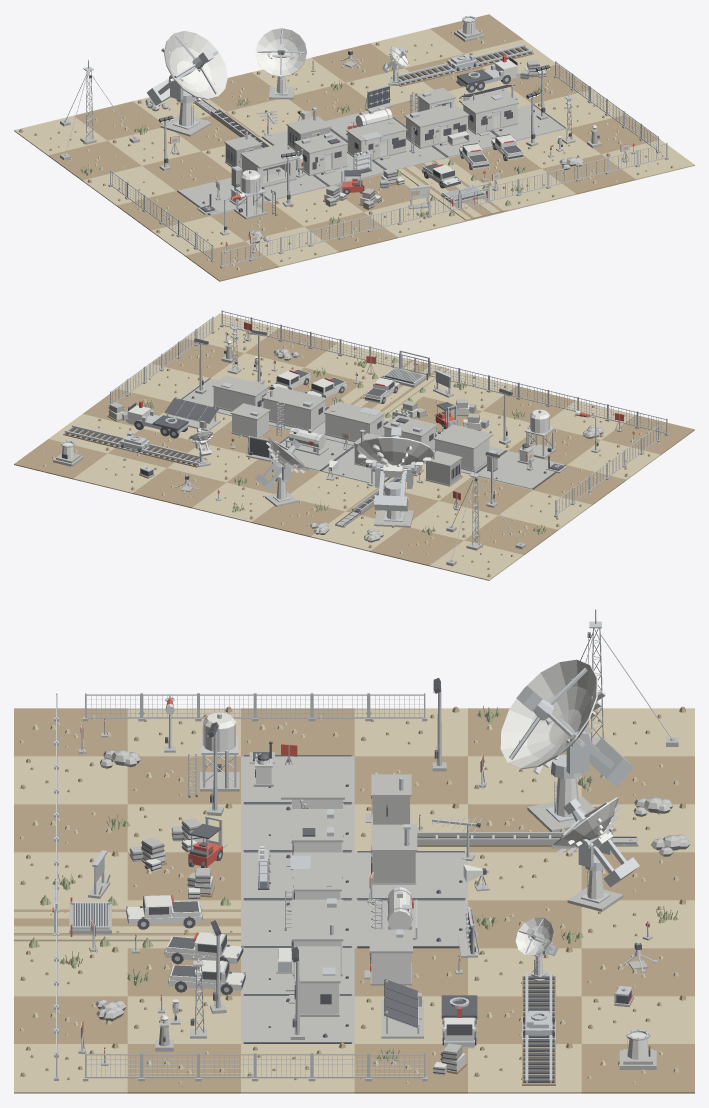
The picture shows the model from 3 angles, top to bottom: view 1: azimuth 30°, elevation 25°; view 2: azimuth 150°, elevation 25°; view 3: azimuth 270°, elevation 25°; orthographic projection. The views are drawn at different scales.
Visible parts, largest first — view 1: 048-dish-antenna-large/elevation, 005-ground-module-dark/0, 002-ground-module-pale/0, 001-ground-module-dark/0, 006-ground-module-dark/0, 017-ground-module-dark/0, 008-ground-module-dark/0, 003-ground-module-dark/0, 004-ground-module-pale/0, 035-ground-module-pale/0, 047-ground-module-pale/0, 000-ground-module-pale/0 (+54 smaller); view 2: 048-dish-antenna-large/elevation, 006-ground-module-dark/0, 002-ground-module-pale/0, 030-ground-module-dark/0, 000-ground-module-pale/0, 001-ground-module-dark/0, 003-ground-module-dark/0, 036-ground-module-pale/0, 019-ground-module-pale/0, 004-ground-module-pale/0, 005-ground-module-dark/0, 024-ground-module-pale/0 (+54 smaller); view 3: 048-dish-antenna-large/elevation, 047-ground-module-pale/0, 017-ground-module-dark/0, 035-ground-module-pale/0, 045-ground-module-pale/0, 002-ground-module-pale/0, 011-ground-module-pale/0, 030-ground-module-dark/0, 046-ground-module-dark/0, 005-ground-module-dark/0, 019-ground-module-pale/0, 024-ground-module-pale/0 (+73 smaller).
Boxes of the visible parts, x1,y1,x2,y2 form: 048-dish-antenna-large/elevation: (161,31,227,101); 005-ground-module-dark/0: (185,241,279,281); 002-ground-module-pale/0: (82,166,175,205); 001-ground-module-dark/0: (48,141,141,180); 006-ground-module-dark/0: (74,101,163,140); 017-ground-module-dark/0: (304,212,397,252); 008-ground-module-dark/0: (142,151,231,190); 003-ground-module-dark/0: (117,191,209,231); 004-ground-module-pale/0: (151,216,244,255); 035-ground-module-pale/0: (483,169,576,208); 047-ground-module-pale/0: (601,140,694,179); 000-ground-module-pale/0: (14,115,107,155); 048-dish-antenna-large/elevation: (357,437,433,477); 006-ground-module-dark/0: (370,527,463,566); 002-ground-module-pale/0: (499,490,591,530); 030-ground-module-dark/0: (132,468,225,508); 000-ground-module-pale/0: (430,540,523,580); 001-ground-module-dark/0: (464,515,557,555); 003-ground-module-dark/0: (533,465,626,505); 036-ground-module-pale/0: (73,453,166,493); 019-ground-module-pale/0: (290,472,377,511); 004-ground-module-pale/0: (567,440,660,480); 005-ground-module-dark/0: (602,415,694,454); 024-ground-module-pale/0: (192,482,273,522); 048-dish-antenna-large/elevation: (500,659,605,774); 047-ground-module-pale/0: (14,1044,127,1093); 017-ground-module-dark/0: (14,804,127,852); 035-ground-module-pale/0: (14,948,127,996); 045-ground-module-pale/0: (241,1044,354,1093); 002-ground-module-pale/0: (354,708,467,756); 011-ground-module-pale/0: (14,756,127,804); 030-ground-module-dark/0: (581,948,694,996); 046-ground-module-dark/0: (127,1044,240,1093); 005-ground-module-dark/0: (14,708,127,756); 019-ground-module-pale/0: (468,852,581,900); 024-ground-module-pale/0: (581,900,694,948).
Size of the model in its own units: 64 by 11.53 by 48.
